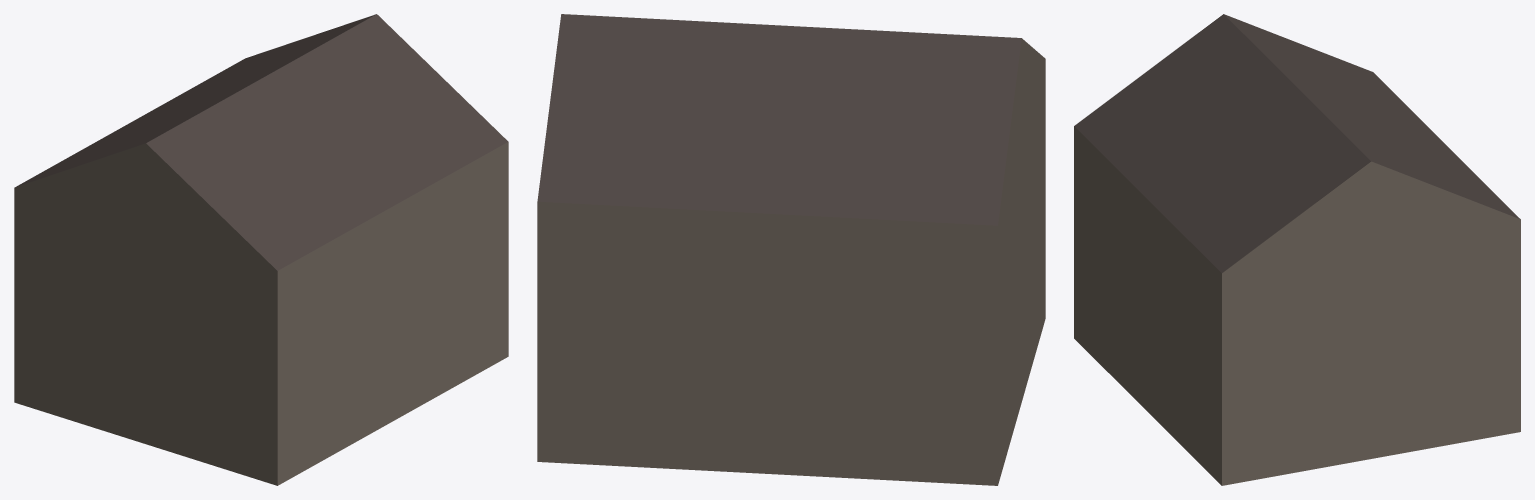
3 renders of one model, left to right at view 1: azimuth 30°, elevation 25°; view 2: azimuth 150°, elevation 25°; view 3: azimuth 270°, elevation 25°, orthographic. The views are drawn at different scales.
Parts seen in each view (by area): view 1: HP-w378107183; view 2: HP-w378107183; view 3: HP-w378107183.
Part boxes in pixels (x1=…): HP-w378107183: x1=14, y1=14, x2=508, y2=485; HP-w378107183: x1=537, y1=14, x2=1045, y2=485; HP-w378107183: x1=1074, y1=14, x2=1520, y2=485.
Size of the model in its own units: 12.2 by 8.4 by 11.43.
